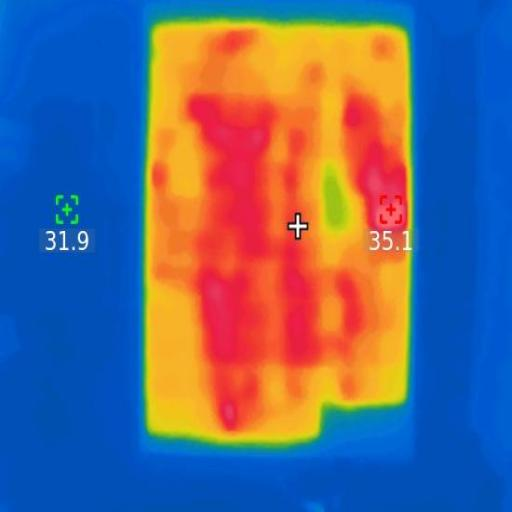hotspot: (190, 84, 306, 427), (339, 98, 411, 263), (333, 270, 364, 367)
